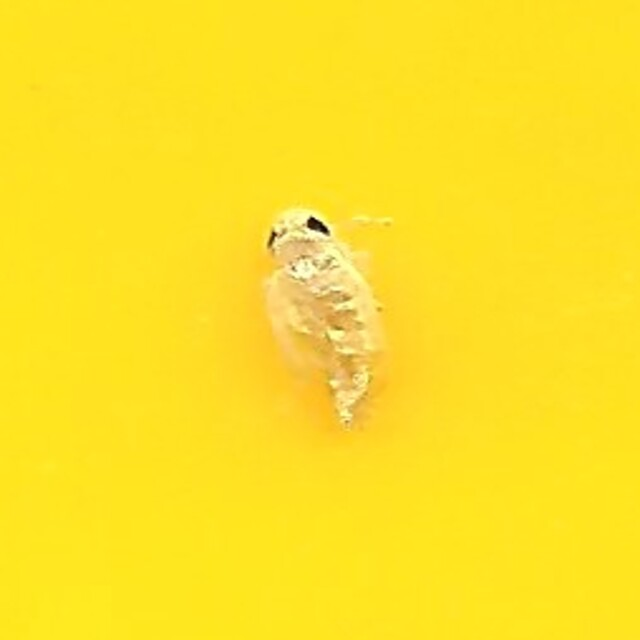Hemiptera: (252, 209, 388, 431)
